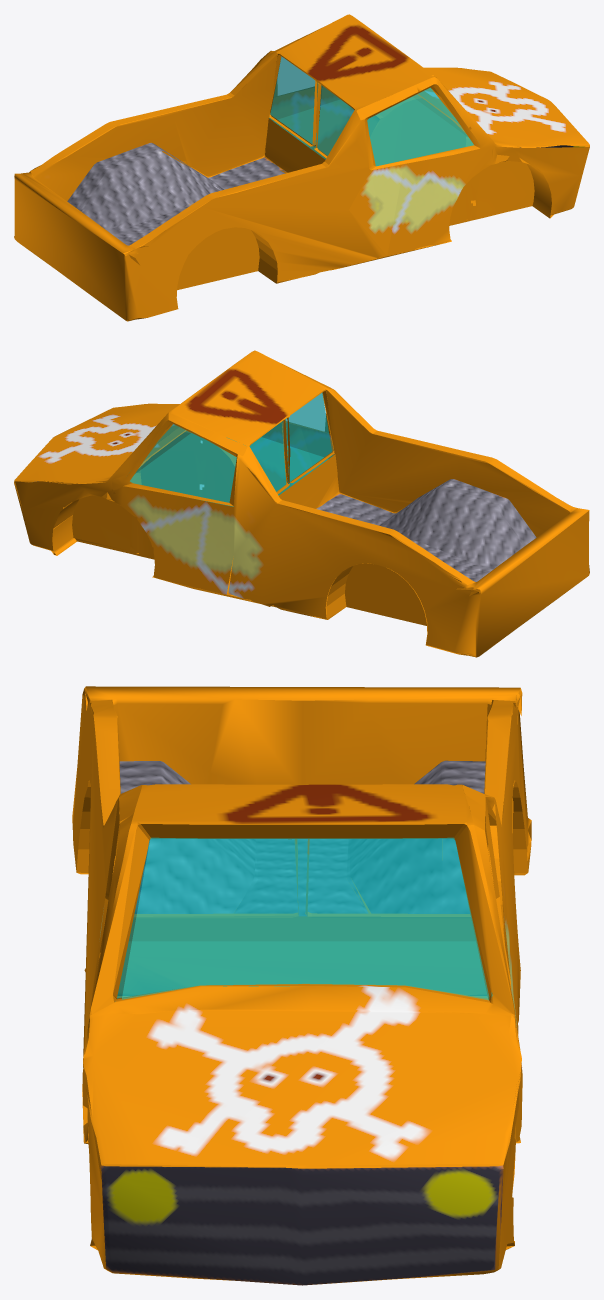
The model's file is pusher_truck.glb.
3 renders of one model, top to bottom at view 1: azimuth 30°, elevation 25°; view 2: azimuth 150°, elevation 25°; view 3: azimuth 270°, elevation 25°, orthographic. The views are drawn at different scales.
Parts seen in each view (by area): view 1: car-convcol, window; view 2: car-convcol, window; view 3: car-convcol, window.
Boxes of the visible parts, x1,y1,x2,y2 form: car-convcol: (14,14,589,321); window: (269,56,473,166); car-convcol: (14,350,589,657); window: (130,392,332,506); car-convcol: (72,686,531,1285); window: (115,837,492,1001).
Bounding box in the file's own units: 7.08 × 2.26 × 2.92.
Materials: 2 (1 with a texture image).
